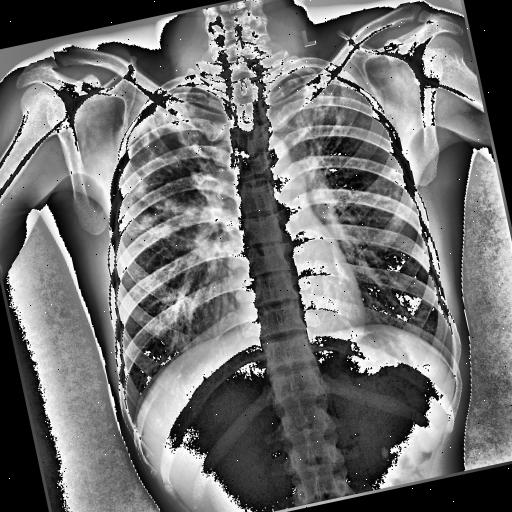13- Pulmonary fibrosis: (108, 83, 254, 288), (112, 89, 252, 269), (108, 86, 224, 240), (266, 64, 354, 170), (282, 68, 358, 180), (298, 84, 352, 165), (368, 174, 412, 230)
5- ILD: (291, 96, 416, 264)
6- Infiltration: (108, 83, 254, 288), (112, 89, 252, 269), (108, 86, 224, 240), (282, 68, 358, 180)
